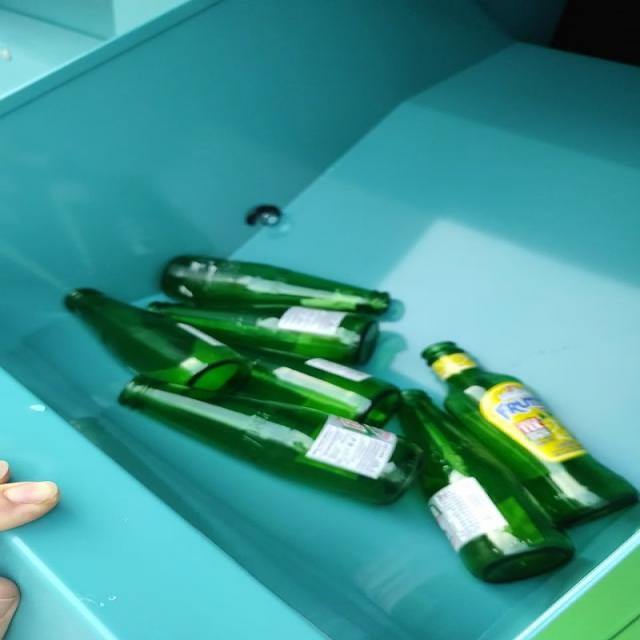glass: (64, 256, 639, 584)
